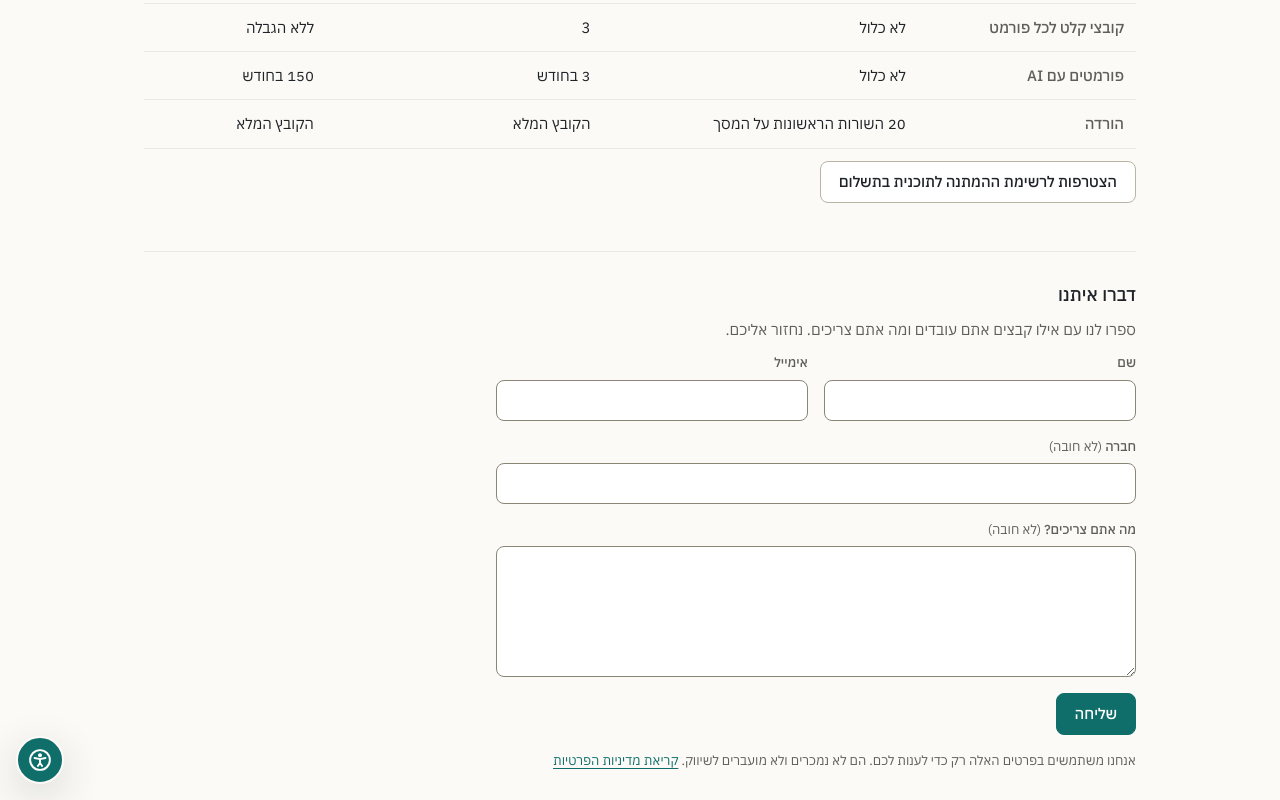
Test: the lead form on the business page › is in Hebrew too, with the thank-you
(page scrolled)
Type "דנה לוי" into the field labelled "שם" at {"x": 980, "y": 400}, box [824, 380, 1136, 421]
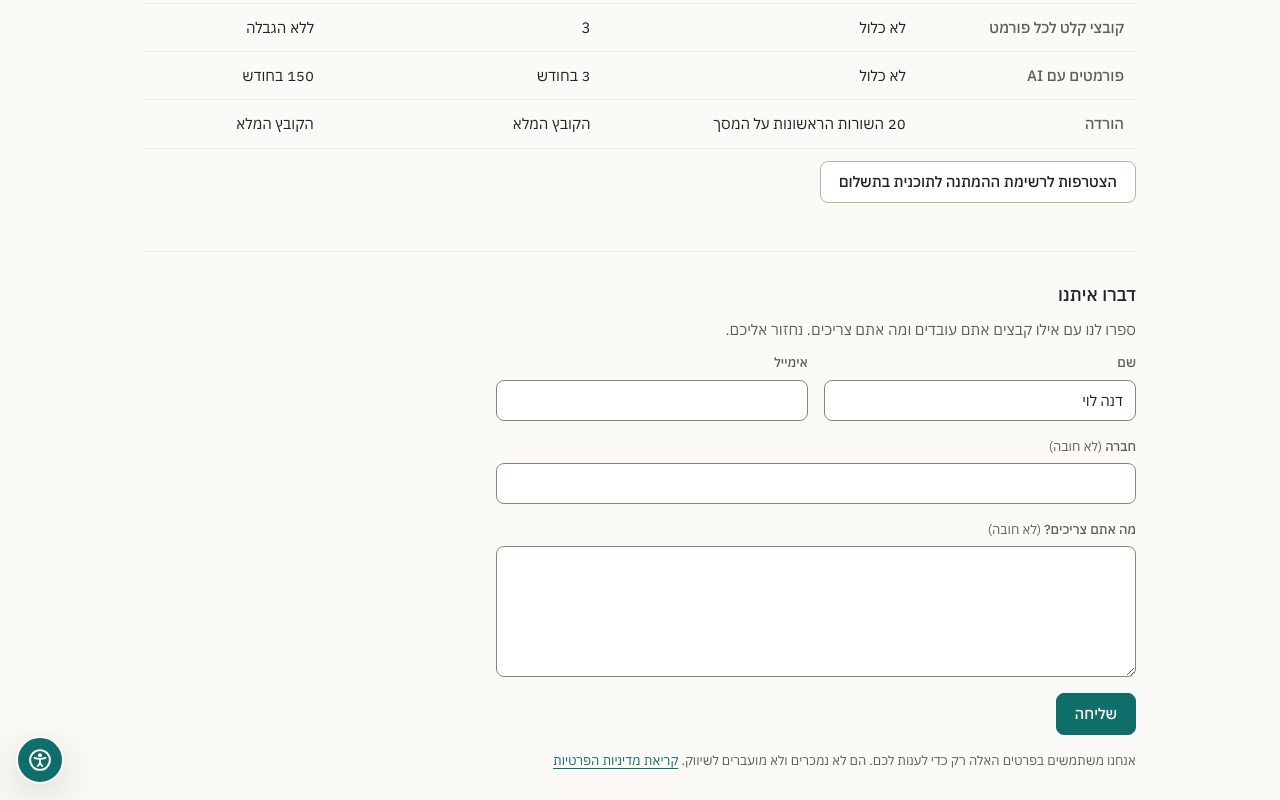
Type "dana@example.com" into the field labelled "אימייל" at {"x": 652, "y": 400}, box [496, 380, 808, 421]
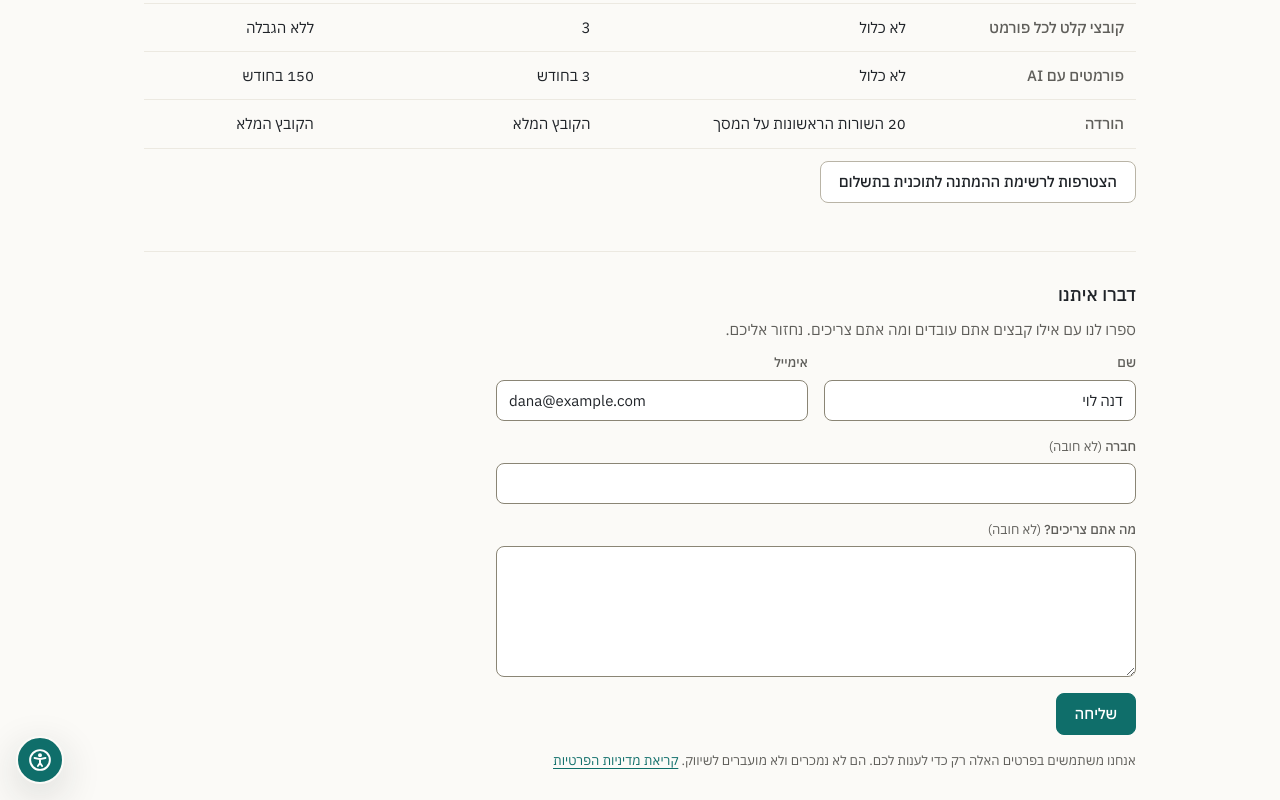
Click the button "שליחה" at {"x": 1096, "y": 714}, box [1056, 693, 1136, 735]
(page scrolled)
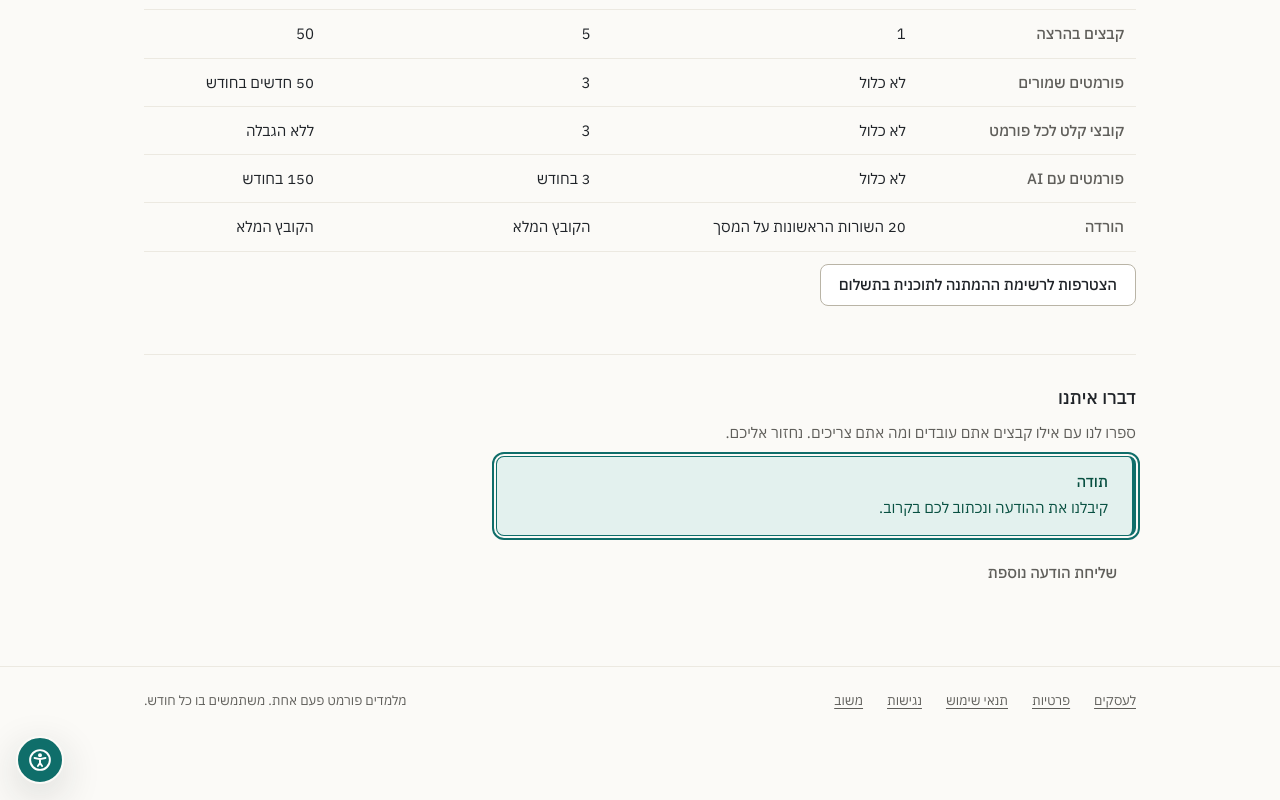
Result: the text "קיבלנו את ההודעה ונכתוב לכם בקרוב." is shown at [879, 498, 1108, 517]
